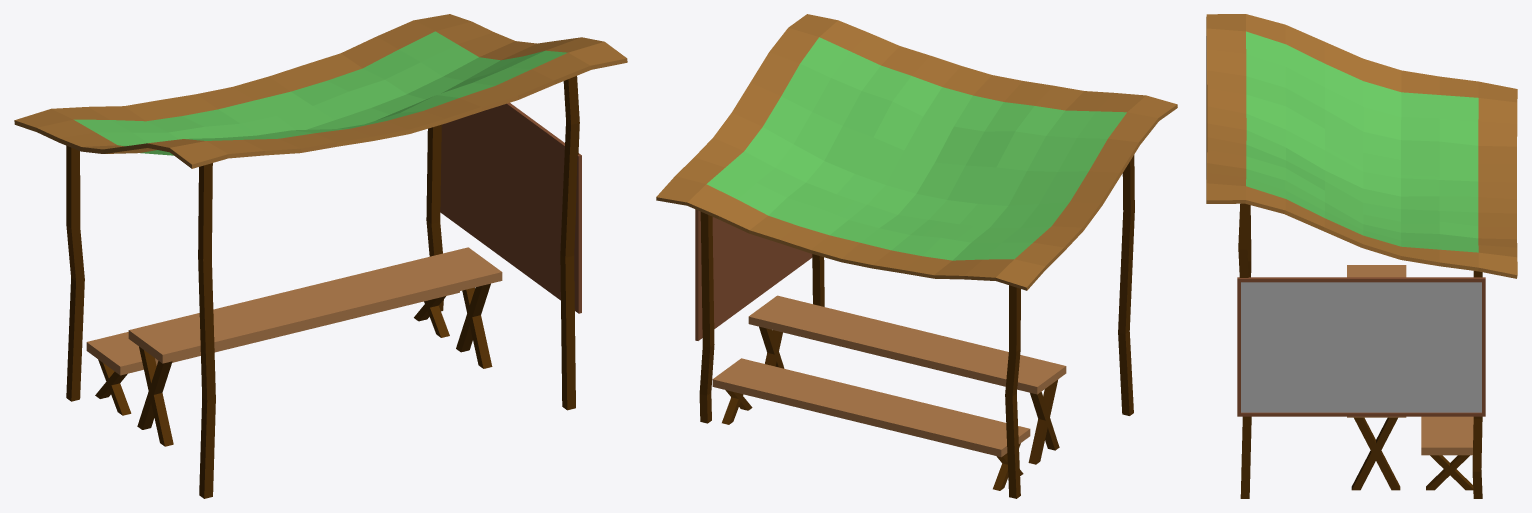
Rendered from market.fbx.
3 renders of one model, left to right at view 1: azimuth 30°, elevation 25°; view 2: azimuth 150°, elevation 25°; view 3: azimuth 270°, elevation 25°, orthographic. The views are drawn at different scales.
Parts seen in each view (by area): view 1: Market; view 2: Market; view 3: Market.
Boxes of the visible parts, left/top/right/bottom form: Market: left=14, top=14, right=627, bottom=498; Market: left=656, top=14, right=1177, bottom=498; Market: left=1206, top=14, right=1517, bottom=498.
Size of the model in its own units: 509 by 400 by 360.
